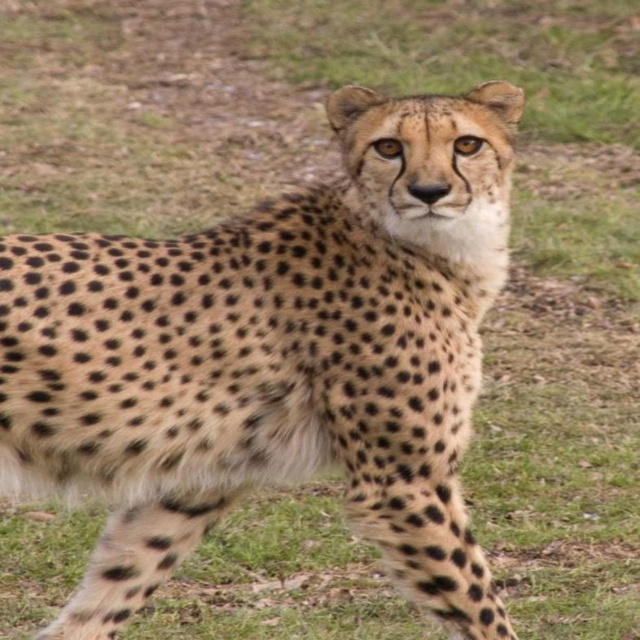Cheetah: (0, 78, 522, 639), (0, 78, 521, 639)
